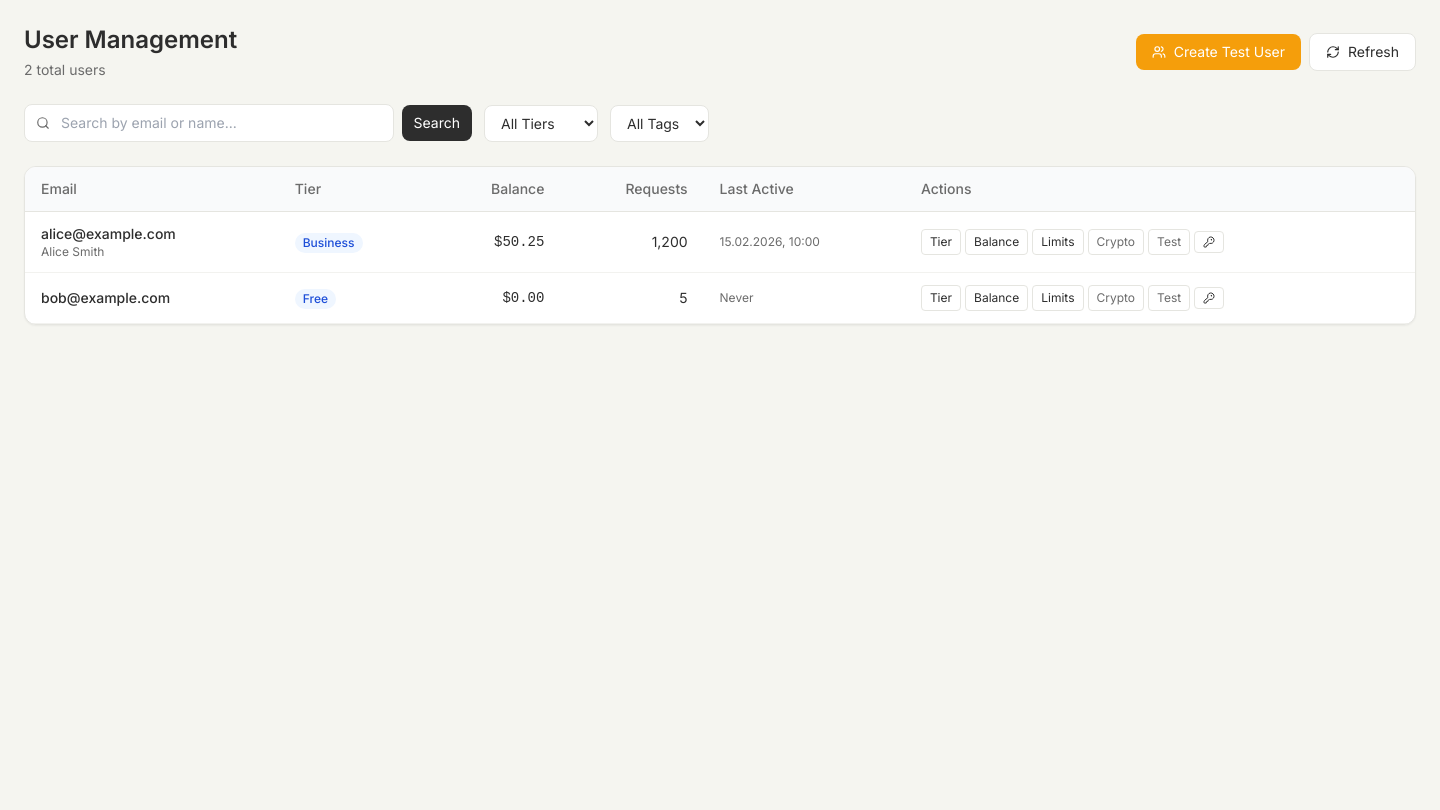
Test: AdminUsersPage › Tier action button opens tier modal
The image size is (1440, 810).
Expected: the text "alice@example.com" is shown, [41, 224, 176, 244]
Click the button "Tier" in the row of "alice@example.com". click: (941, 242)
box: [921, 229, 961, 255]
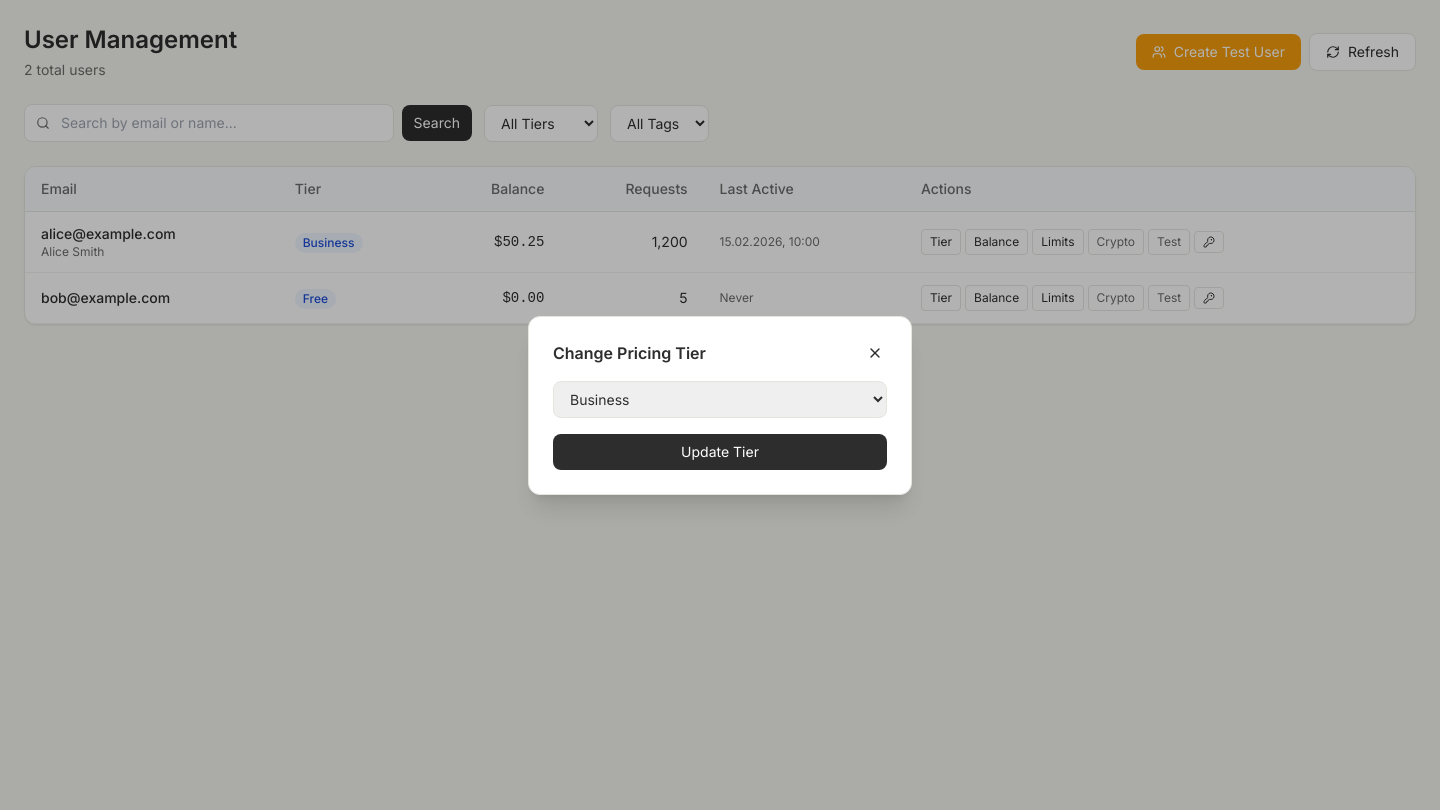
Now the heading "Change Pricing Tier" is shown, box [553, 340, 706, 364]
Now the button "Update Tier" is shown, box [553, 434, 887, 470]
